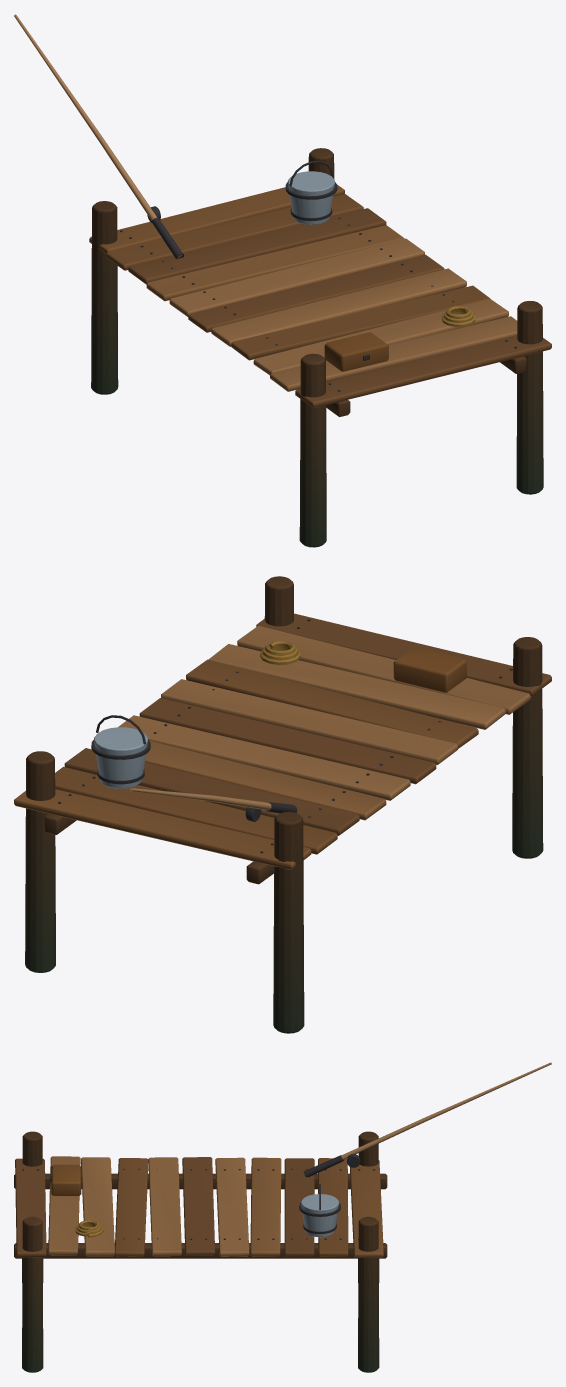
The model's file is pier.glb.
3 renders of one model, top to bottom at view 1: azimuth 30°, elevation 25°; view 2: azimuth 150°, elevation 25°; view 3: azimuth 270°, elevation 25°, orthographic. The views are drawn at different scales.
Visible parts, largest first — view 1: pier; view 2: pier; view 3: pier.
Part boxes in pixels (x1,y1,x2,y2): pier: (14, 14, 551, 547); pier: (14, 576, 551, 1033); pier: (14, 1062, 551, 1372).
Size of the model in its own units: 3.07 by 3.41 by 7.21.
